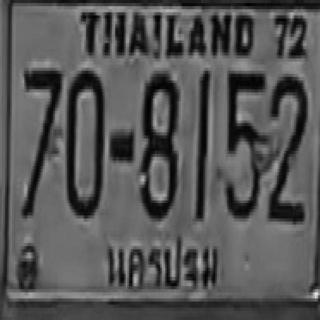N00: (65, 68, 103, 215)
N01: (195, 69, 210, 220)
N02: (267, 72, 306, 220)
N05: (224, 68, 264, 215)
N07: (21, 65, 60, 215)
N08: (139, 69, 177, 217)
P28: (105, 232, 222, 306)
